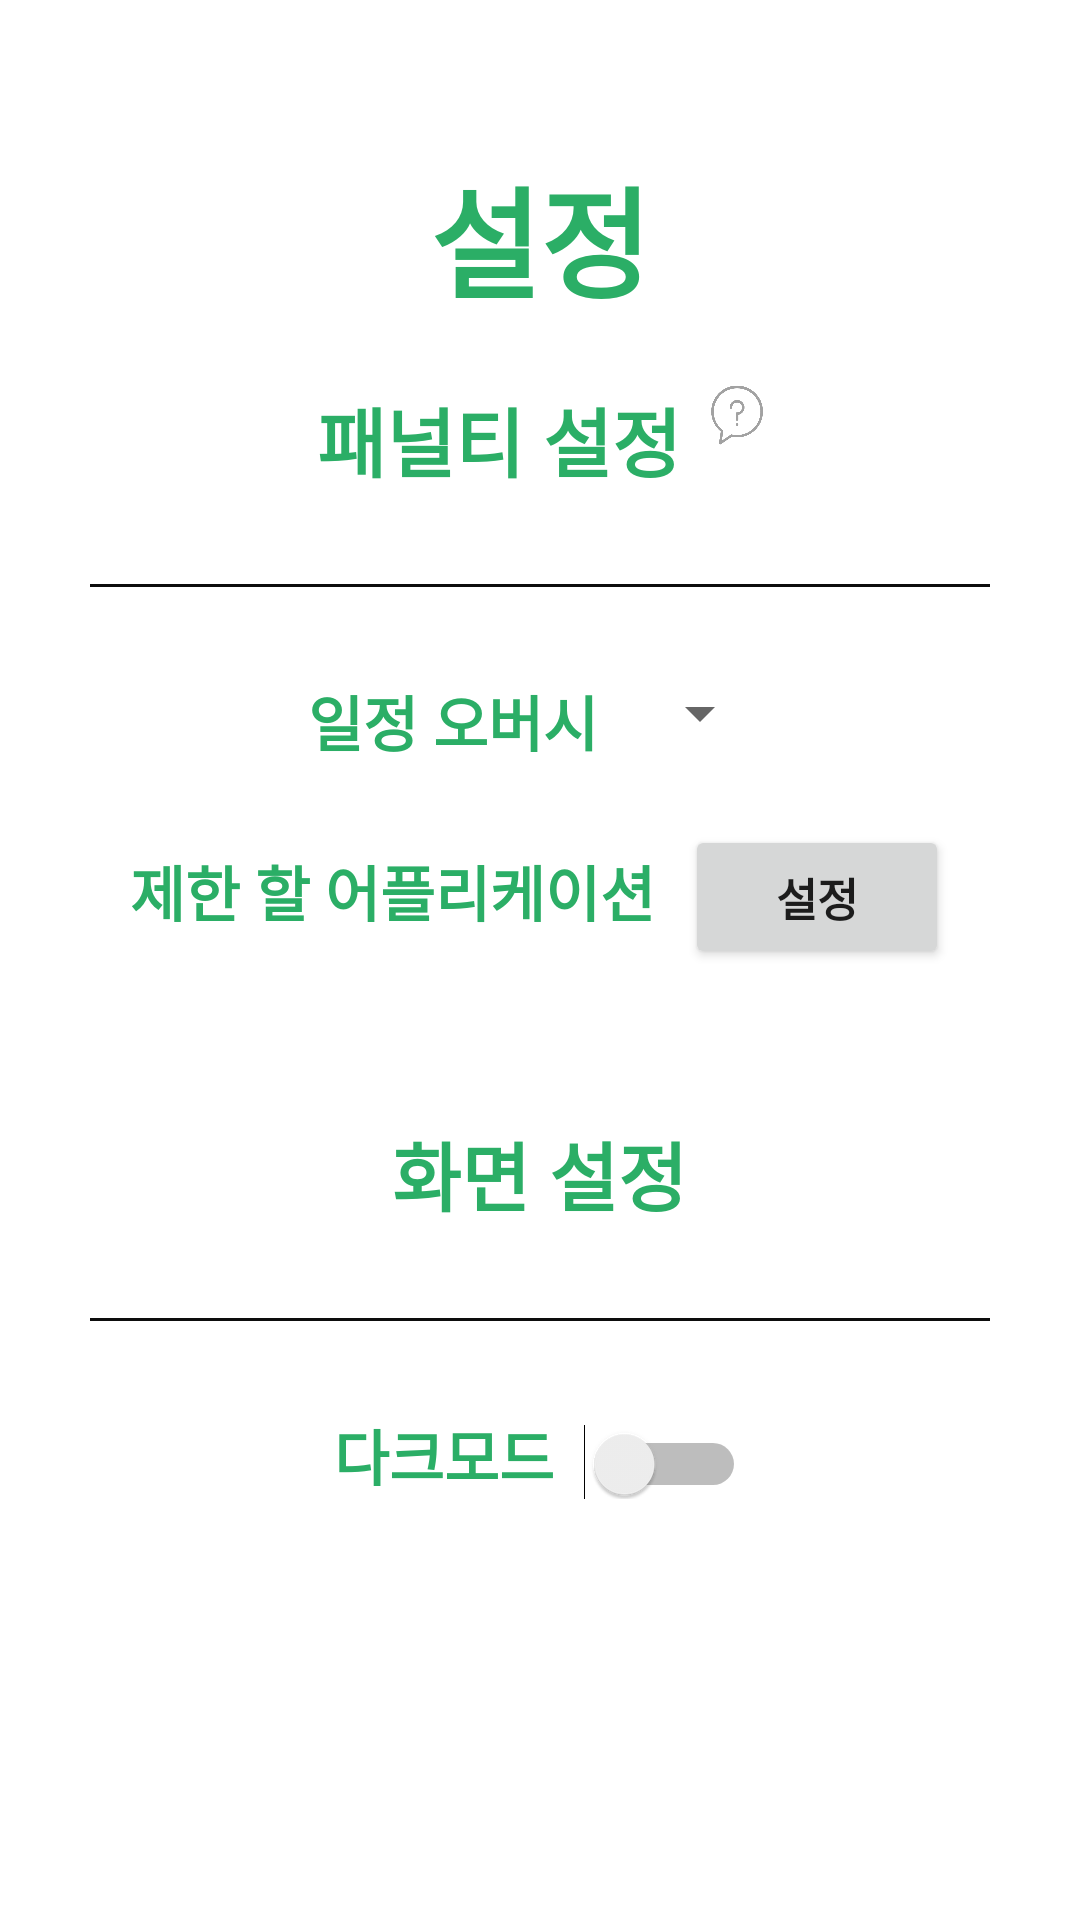

Where to tap for icons on this 1080x1920 app screen, as point (x, y):
question: point (737, 415)
